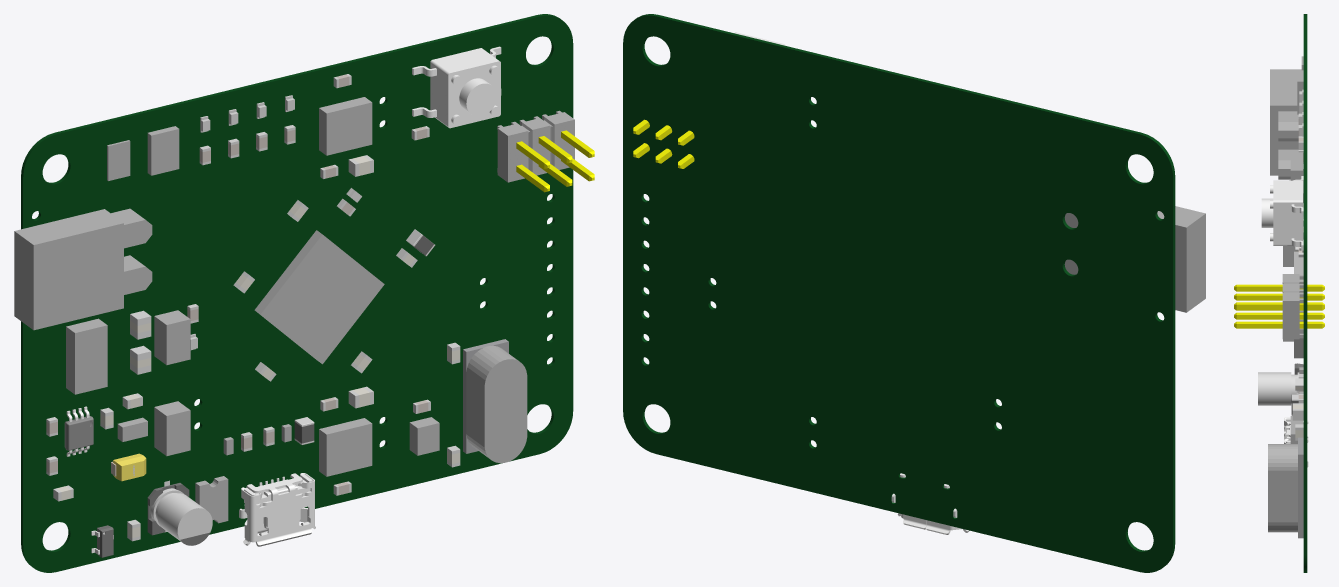
Rendered from line_follower_robot_control_board.glb.
The picture shows the model from 3 angles, left to right: view 1: azimuth 30°, elevation 25°; view 2: azimuth 150°, elevation 25°; view 3: azimuth 270°, elevation 25°; orthographic projection. The views are drawn at different scales.
Parts seen in each view (by area): view 1: PCB; view 2: PCB; view 3: PCB.
Part boxes in pixels (x1,y1,x2,y2): PCB: [14, 14, 594, 572]; PCB: [623, 14, 1205, 572]; PCB: [1234, 14, 1324, 572].
Bounding box in the file's own units: 6.38 × 4.89 × 1.09.
